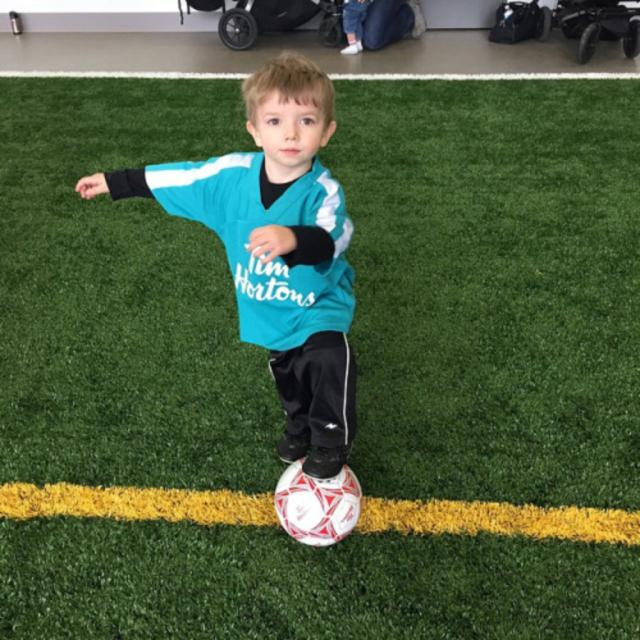no_helmet: (226, 46, 345, 136)
